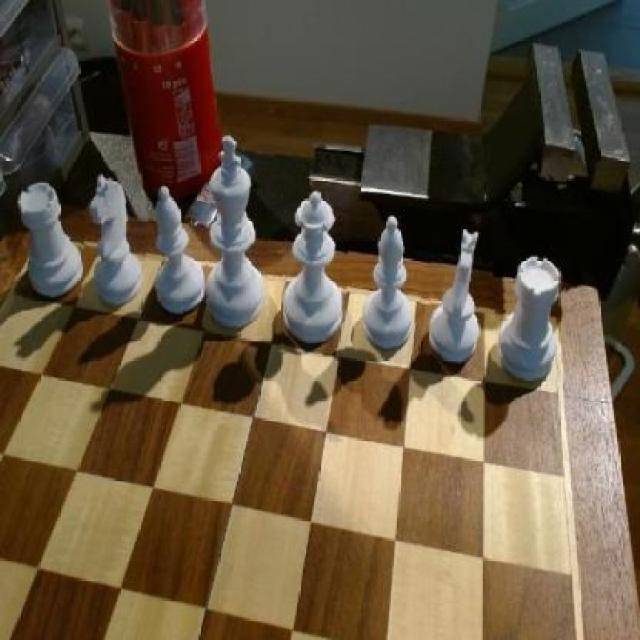black-rook: (358, 215, 420, 357), (154, 175, 209, 323)
white-bishop: (204, 132, 272, 337)
white-king: (83, 169, 149, 309), (430, 228, 486, 373)
white-pawn: (282, 188, 349, 357)
white-queen: (494, 251, 569, 383), (15, 175, 87, 303)
